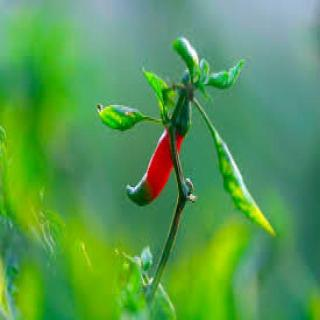Cabai Merah: (127, 99, 187, 208)
